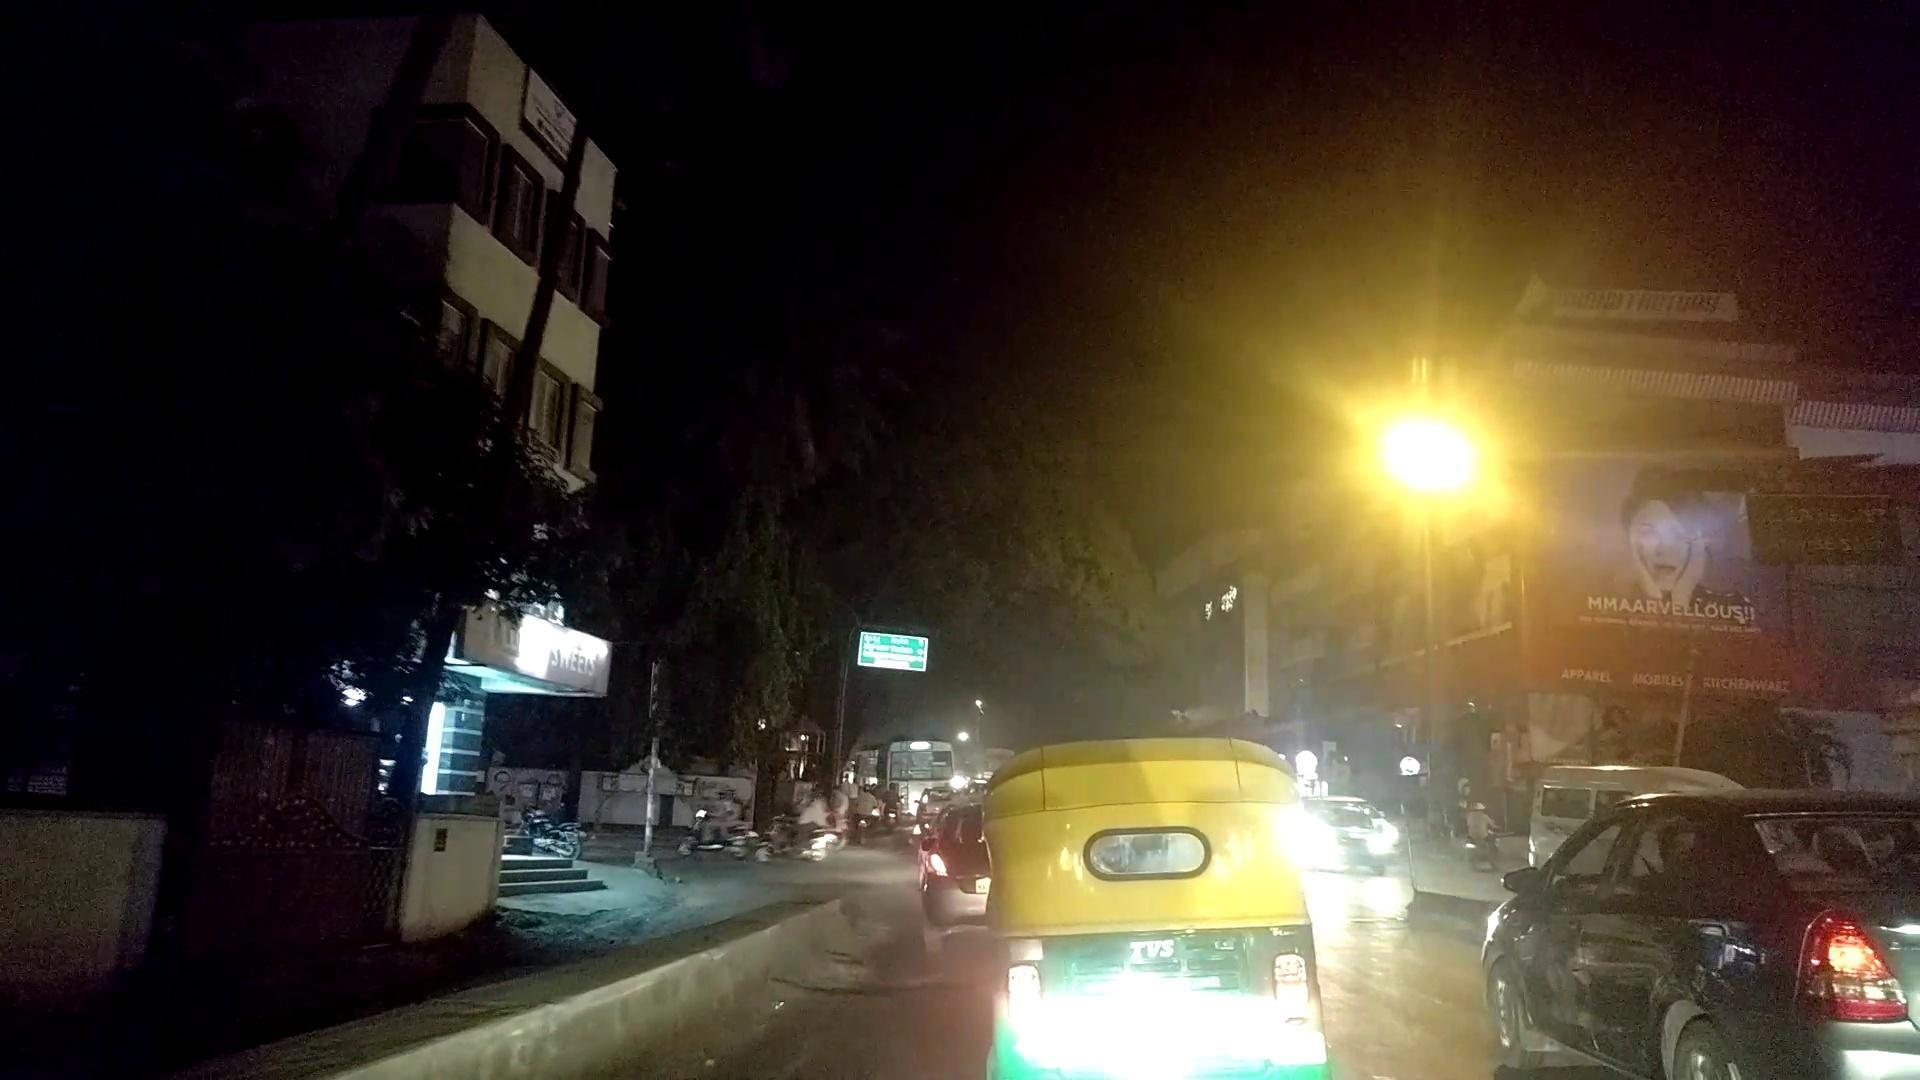on: (1170, 132, 1647, 626)
